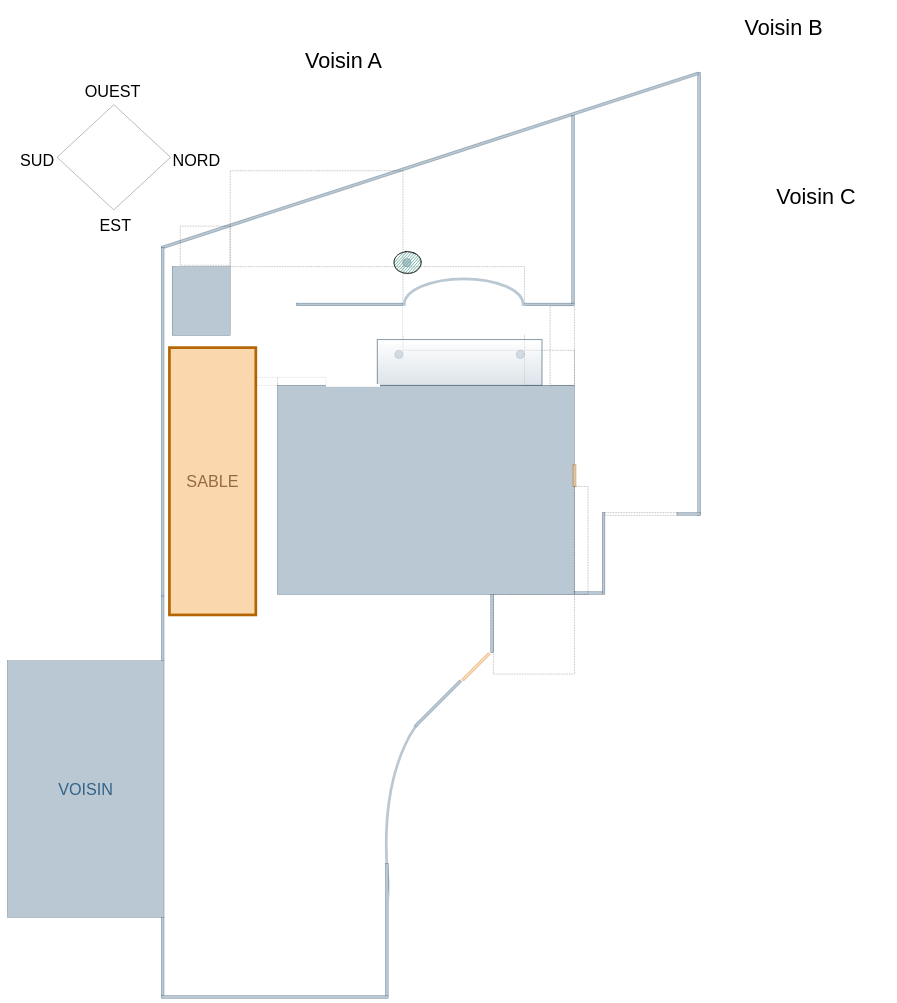
The diagram is 897 pixels wide and 1003 high, and some of its shapes have lost their labels. The shapes that lost their labels are listed below. From the top down, each one's box as (x1, y1, x2, y2) in pixels, then its label:
(172, 266, 230, 335): CABANE
(277, 385, 574, 594): MAISON
